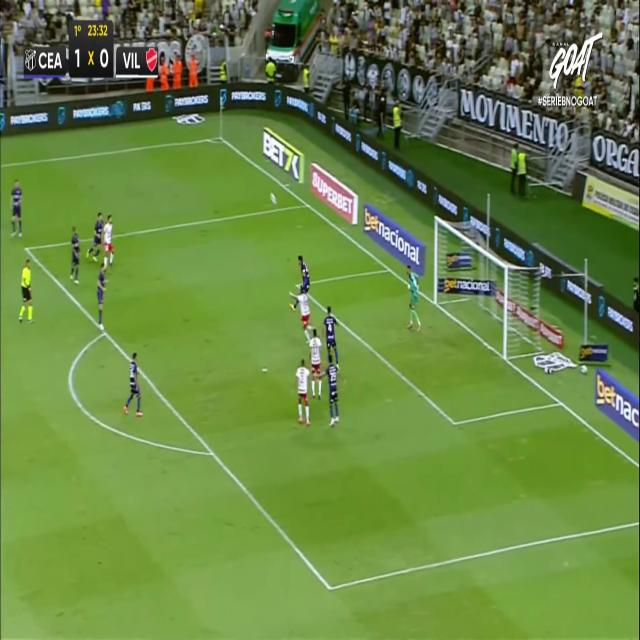ball: (268, 190, 279, 213)
goalkeeper: (406, 263, 421, 330)
player: (321, 353, 345, 426), (306, 325, 324, 401), (294, 282, 315, 346), (123, 351, 143, 416), (290, 255, 310, 311), (85, 210, 105, 262), (295, 358, 310, 425), (322, 305, 339, 363), (96, 262, 107, 332), (10, 178, 22, 237), (70, 225, 81, 285), (102, 213, 114, 267)
referee: (18, 258, 34, 323)
